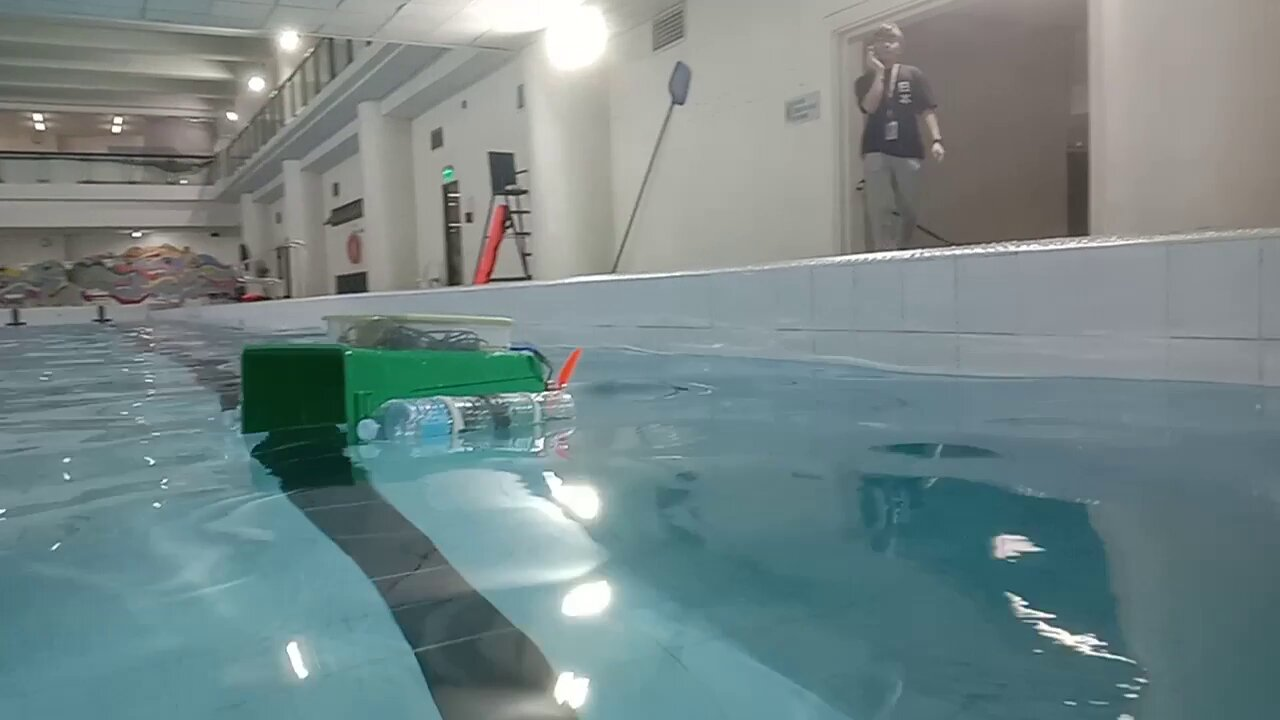drone: (241, 313, 582, 441)
